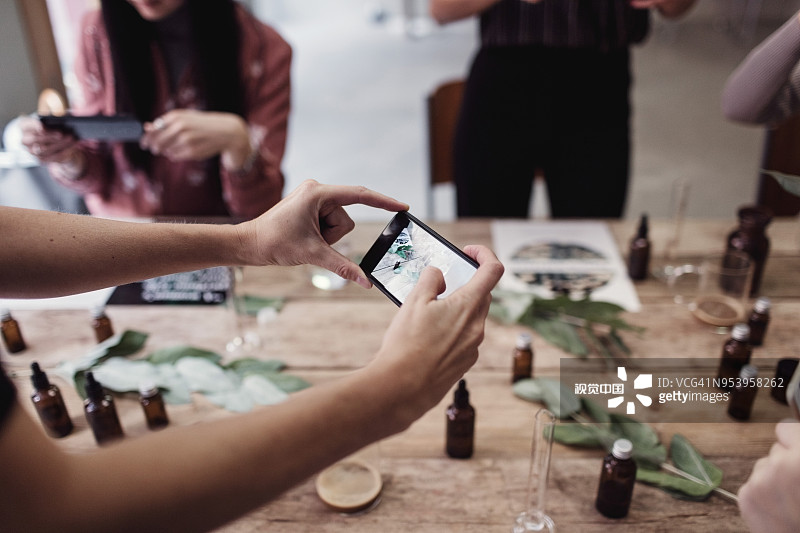taking photos: (214, 162, 512, 420)
